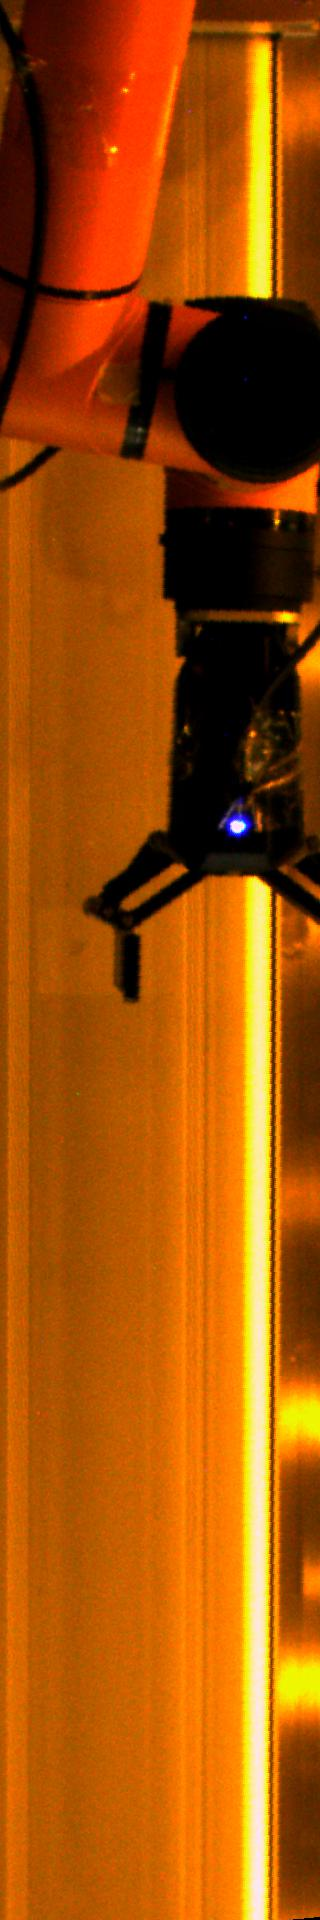keyPoint_1: (223, 811, 253, 840)
